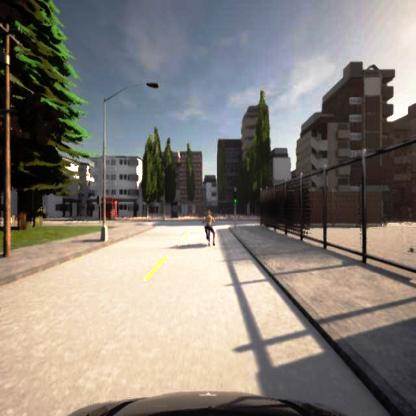bike: (202, 210, 215, 244)
